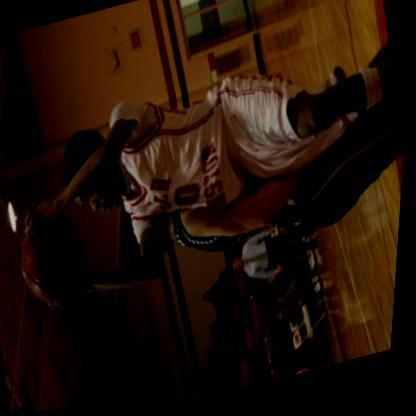basketball: (12, 207, 97, 314)
